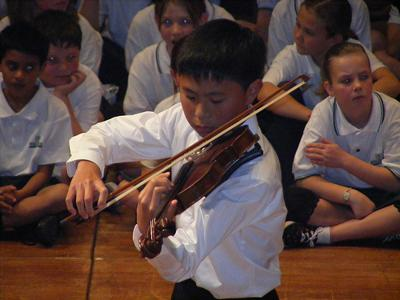person: (66, 18, 290, 300)
